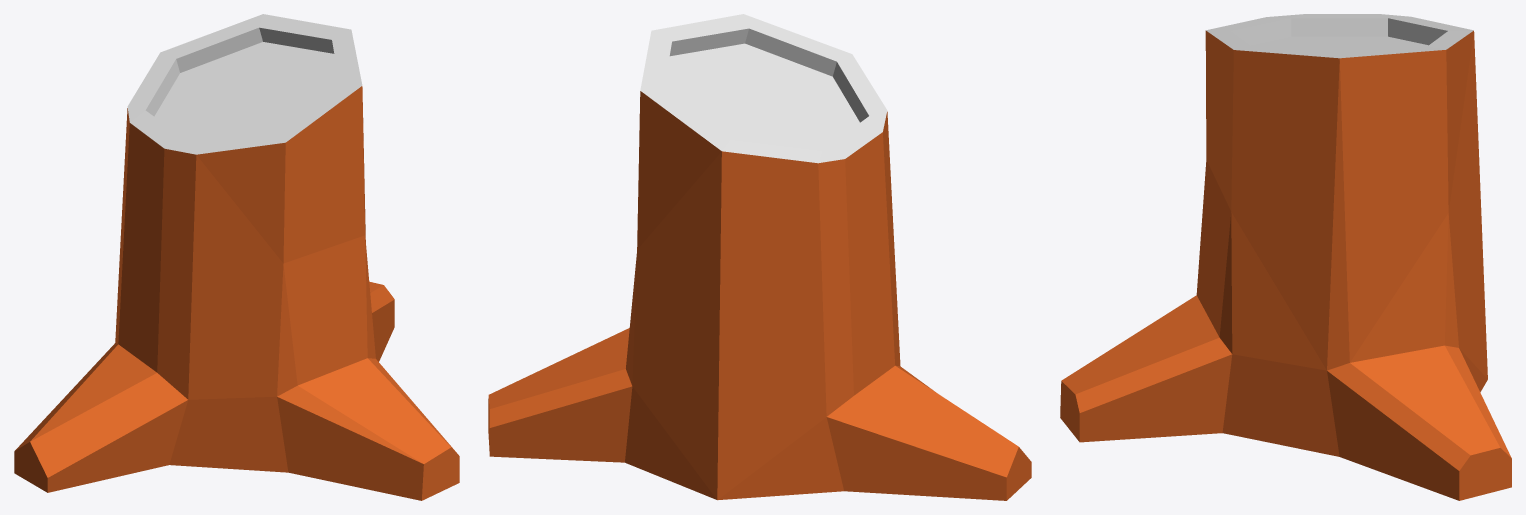
File: Tree_3.fbx
3 views of the same model, side by side, from view 1: azimuth 30°, elevation 25°; view 2: azimuth 150°, elevation 25°; view 3: azimuth 270°, elevation 25° (orthographic). The views are drawn at different scales.
Visible parts, largest first — view 1: _12_tree; view 2: _12_tree; view 3: _12_tree.
Boxes of the visible parts, left/top/right/bottom form: _12_tree: left=14, top=14, right=459, bottom=500; _12_tree: left=488, top=14, right=1031, bottom=500; _12_tree: left=1060, top=14, right=1511, bottom=500.
Size of the model in its own units: 0.4567 by 0.3631 by 0.3804.
